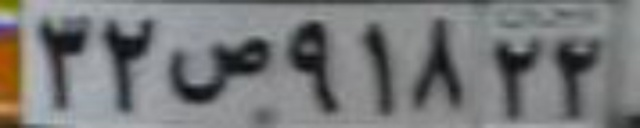1: (359, 21, 393, 115)
2: (100, 14, 153, 111), (490, 36, 541, 121), (551, 35, 597, 118)
3: (36, 13, 88, 111)
8: (408, 16, 466, 109)
9: (287, 20, 338, 111)
saat: (169, 36, 272, 102)
